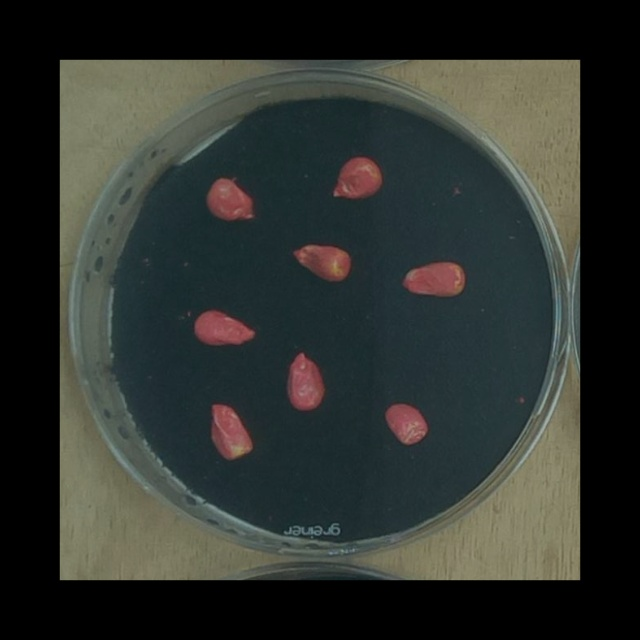Zea mays: (395, 254, 473, 303), (285, 237, 357, 288), (206, 397, 258, 465), (186, 304, 261, 351), (325, 151, 388, 206), (202, 171, 263, 227), (281, 347, 329, 416), (379, 395, 433, 450)
